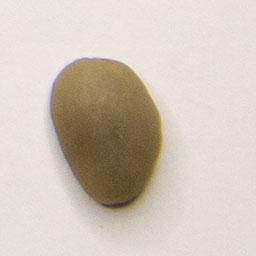premium: (47, 52, 167, 210)
